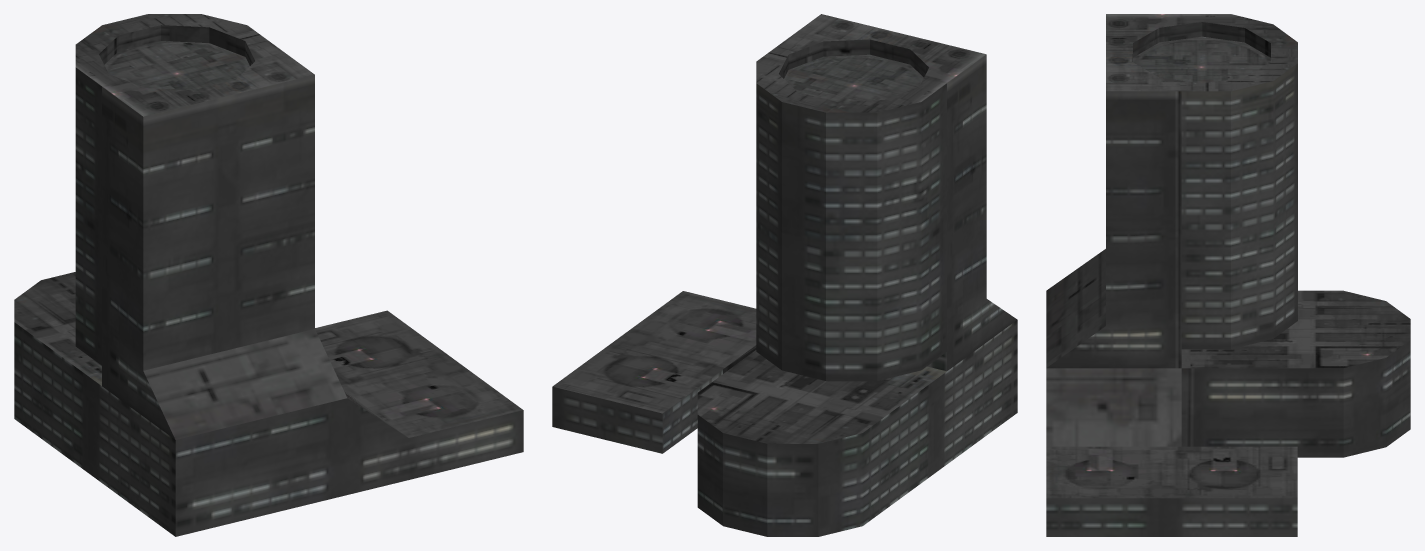
Rendered from scifi_building_26.obj.
3 views of the same model, side by side, from view 1: azimuth 30°, elevation 25°; view 2: azimuth 150°, elevation 25°; view 3: azimuth 270°, elevation 25° (orthographic). The views are drawn at different scales.
Parts seen in each view (by area): view 1: building_26; view 2: building_26; view 3: building_26.
Boxes of the visible parts, left/top/right/bottom form: building_26: left=14, top=14, right=523, bottom=536; building_26: left=552, top=14, right=1017, bottom=536; building_26: left=1046, top=14, right=1410, bottom=536.
Bounding box in the file's own units: 67.38 × 73.39 × 66.22.
Materials: 1 (1 with a texture image).
